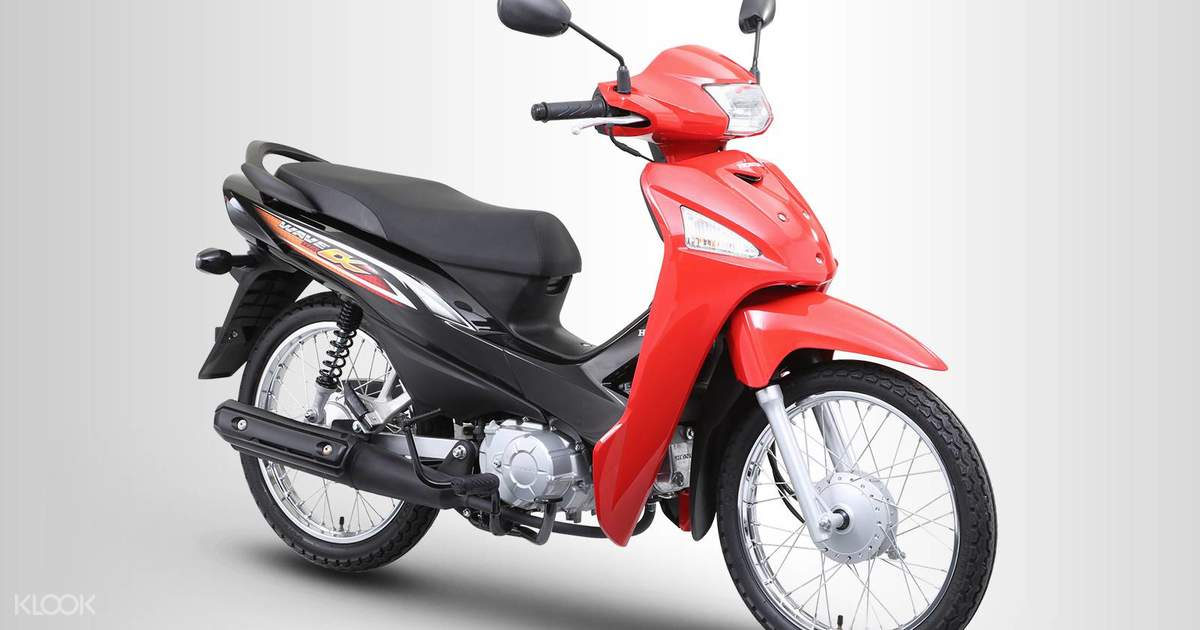motorbike: (149, 6, 1004, 630)
